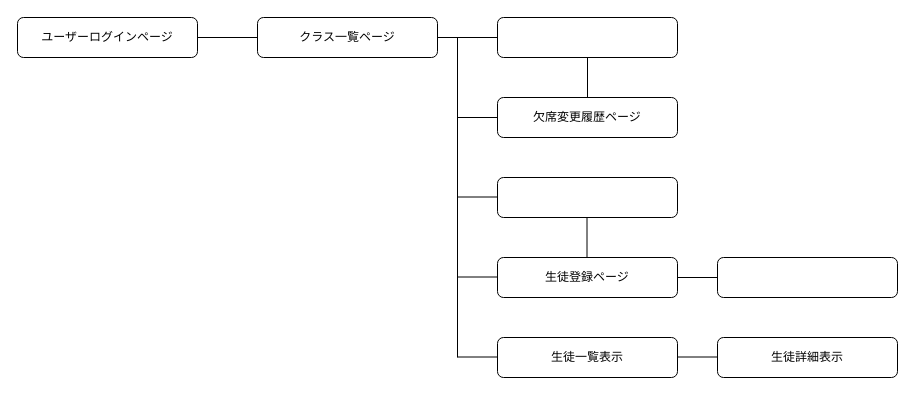
Some shapes in this 915 by 395 pixel diagram are drawn without their labels. Here are the shapes that lost their labels. From the top down, the centre of each, then its label:
[587,37]: 欠席・振替登録ページ
[587,197]: イベント登録ページ
[807,277]: クラス登録ページ
